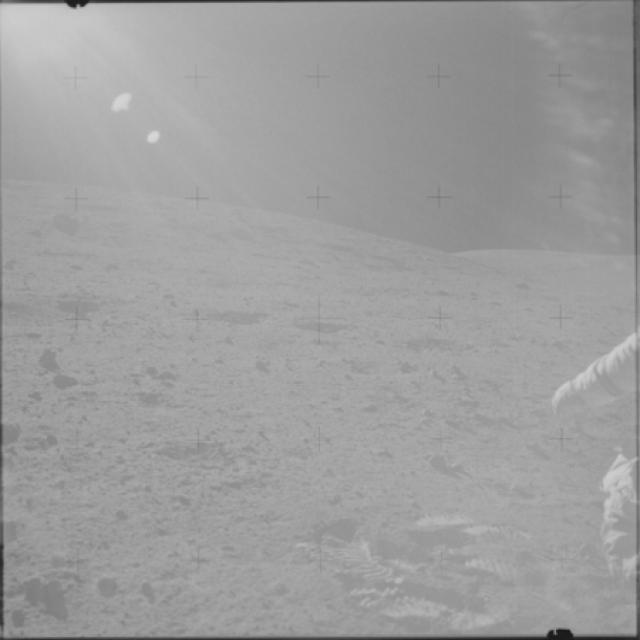crater: (154, 436, 252, 485), (319, 354, 431, 388), (284, 317, 374, 348), (191, 305, 267, 327), (406, 332, 471, 357)
rock: (29, 344, 74, 396), (16, 569, 65, 610), (464, 408, 522, 433), (134, 354, 180, 385), (0, 412, 35, 448), (51, 206, 85, 242), (426, 448, 465, 477), (88, 572, 125, 600), (0, 512, 23, 551), (445, 358, 464, 385)
